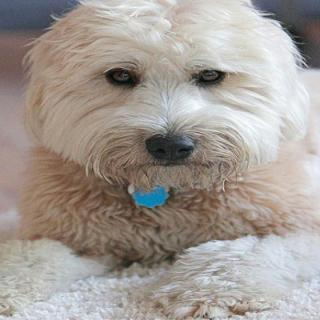dog: (22, 0, 297, 185)
nose: (139, 125, 200, 168)
